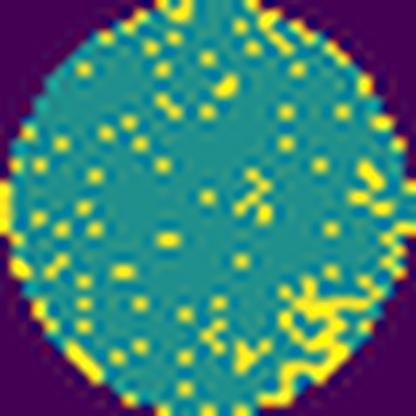Edge-Loc: (256, 266, 394, 408)
